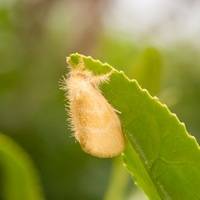insect: (62, 53, 124, 157)
